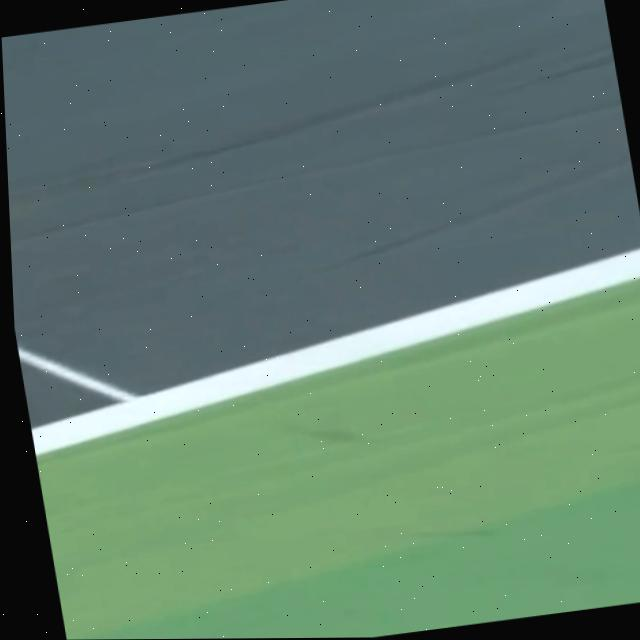right: (30, 247, 640, 454)
